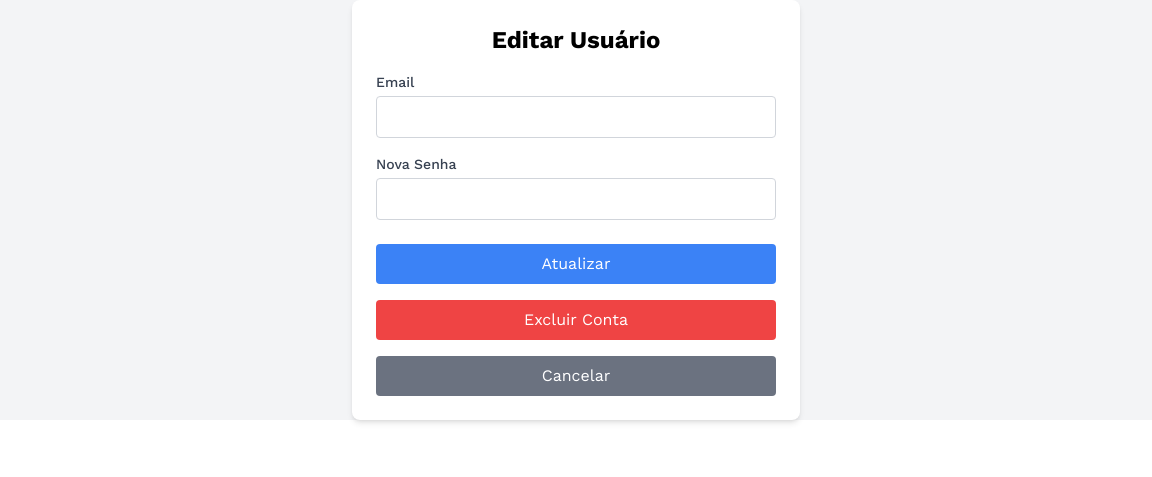
Test: EditUser Component › Deve lidar com erro inesperado ao excluir conta de usuário
Click the button "Excluir Conta" at (576, 320), box [376,300,776,340]
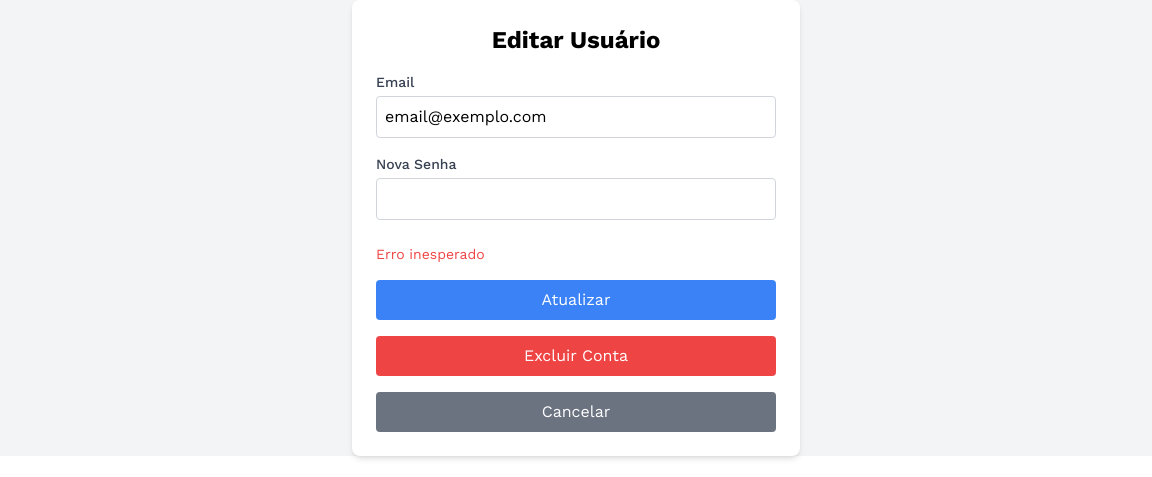
Expected: the text "Erro inesperado" is shown, [376,246,485,262]
